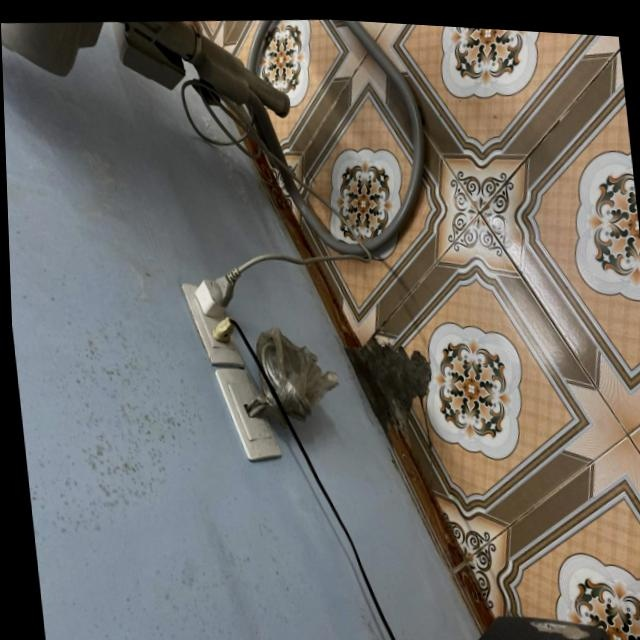outlet: (214, 362, 282, 464), (179, 277, 245, 369)
